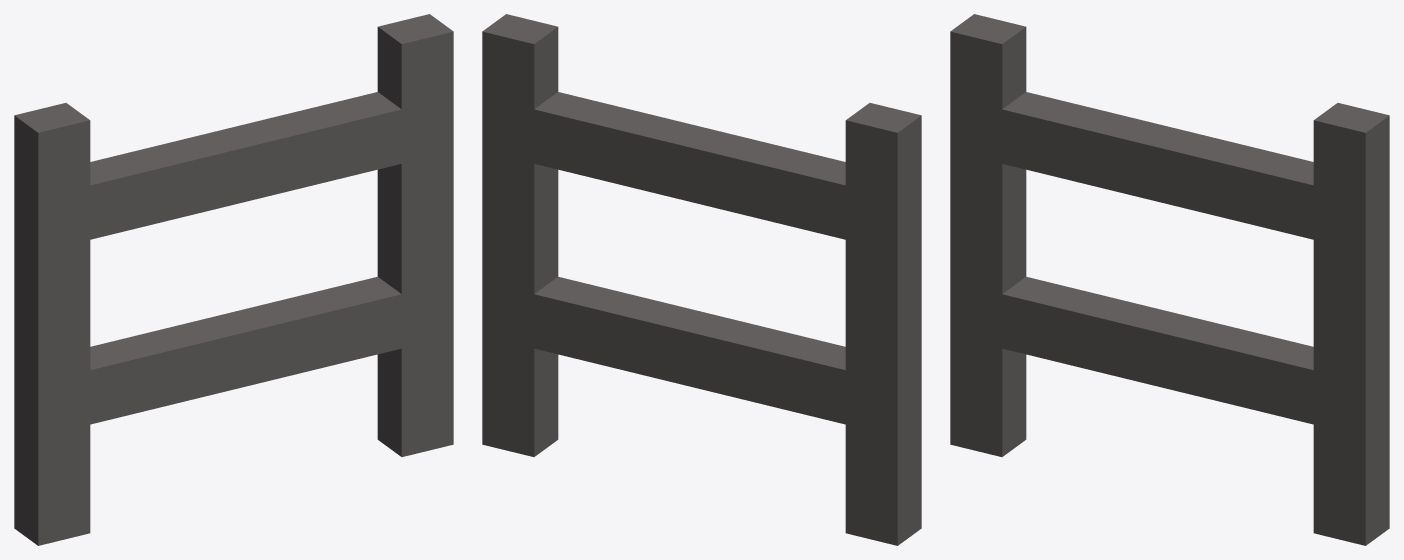
File: fence.obj
The picture shows the model from 3 angles, left to right: view 1: azimuth 30°, elevation 25°; view 2: azimuth 150°, elevation 25°; view 3: azimuth 330°, elevation 25°; orthographic projection.
Bounding box in the file's own units: 4 × 3.8 × 0.4.
